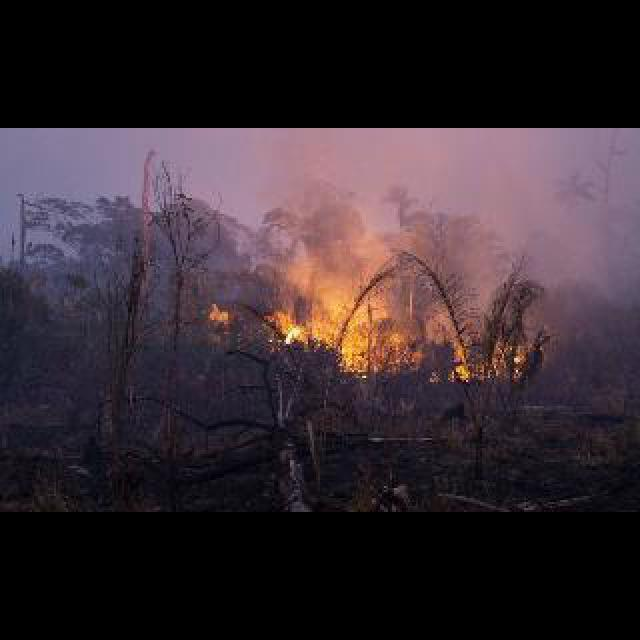Fire: (274, 304, 410, 368), (448, 340, 470, 376), (210, 302, 224, 320), (512, 348, 526, 362)
